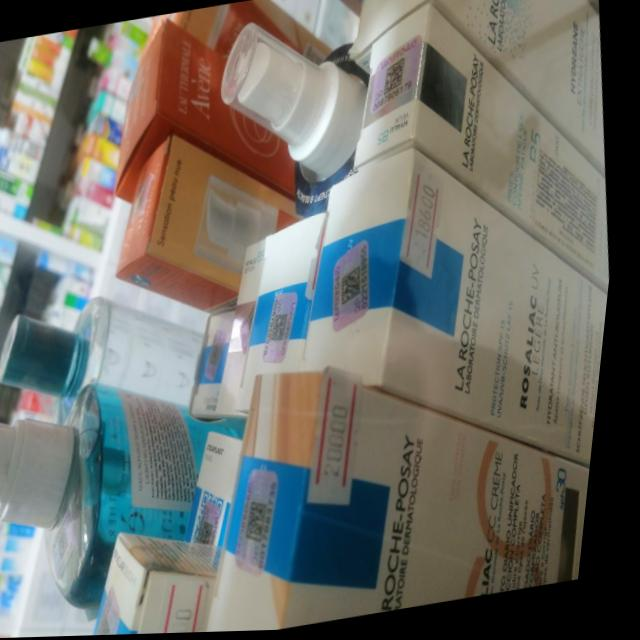datamatrix: (251, 501, 285, 548), (342, 266, 374, 308), (381, 59, 413, 97), (275, 312, 300, 344)
